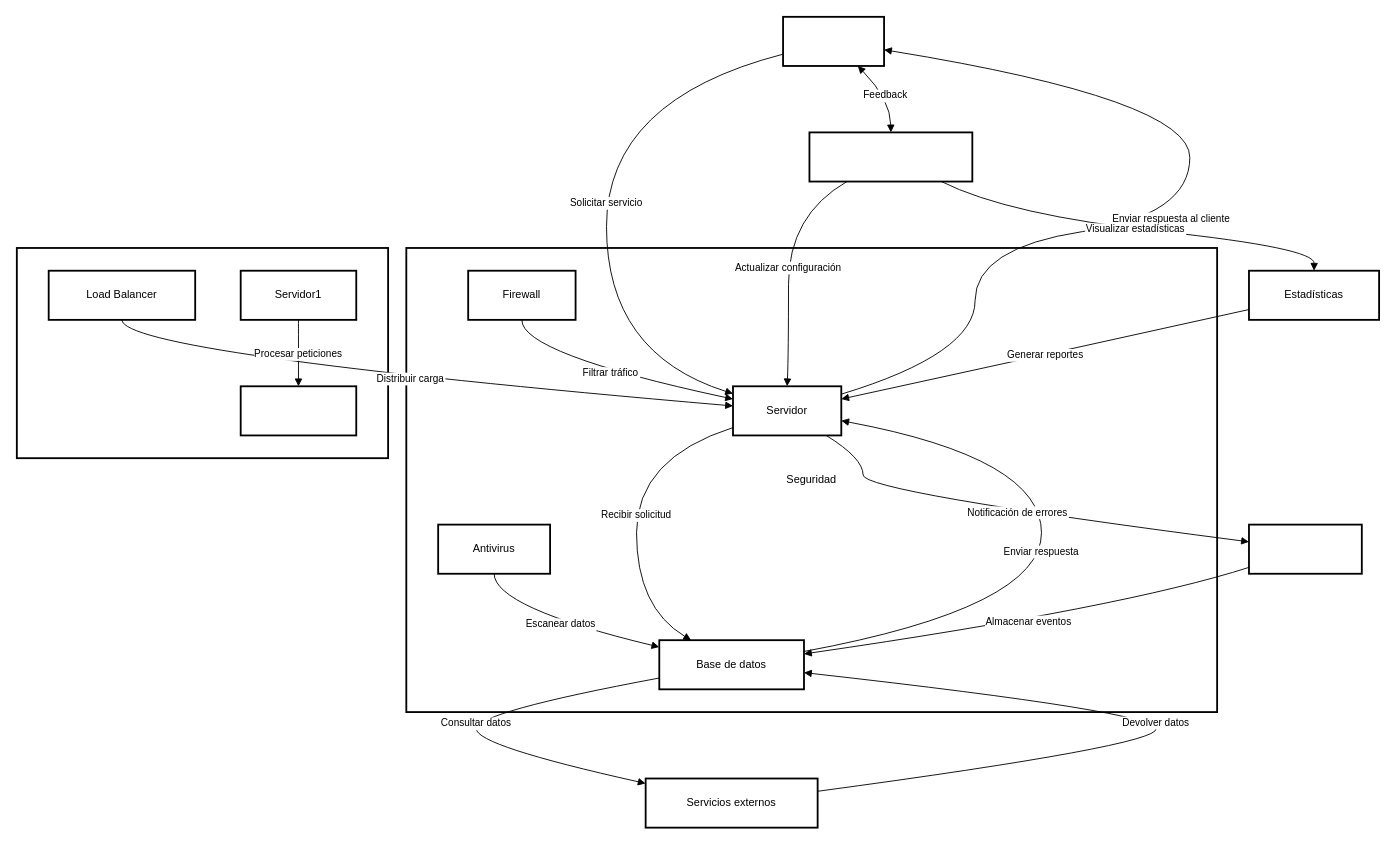
Image size: 1395x844. Some labels were removed from this diagram. The shapes that lost their labels are listed below. From the top down, each one's box as (x1, y1, x2, y2) in pixels, then its label:
(782, 15, 885, 66): Cliente
(808, 131, 973, 182): Panel de Control
(15, 247, 389, 459): Escalabilidad
(239, 385, 357, 436): Servidor2
(1248, 523, 1362, 574): Registros
